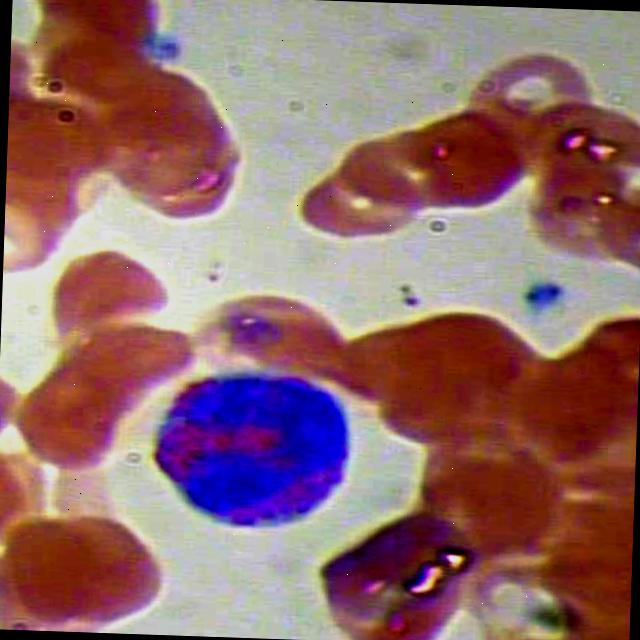Platelets: (510, 274, 566, 312)
RBC: (0, 502, 172, 634), (204, 282, 359, 382), (466, 46, 598, 152), (290, 155, 428, 256), (44, 243, 180, 344)
WBC: (142, 358, 360, 542)
